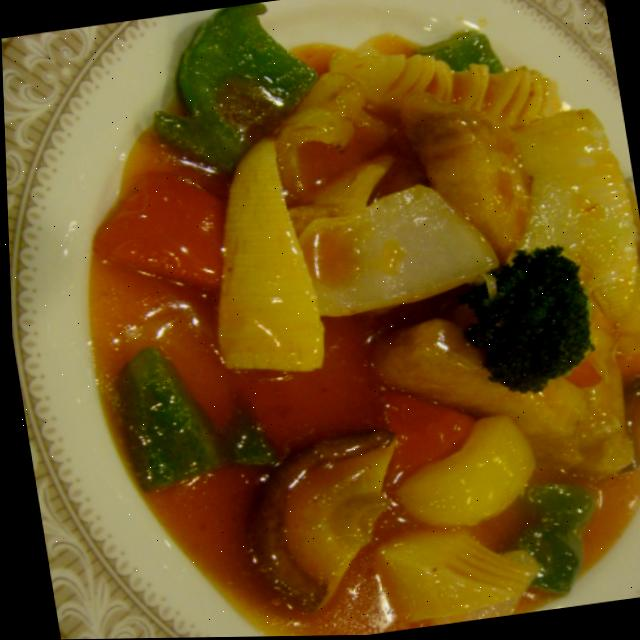猪肉菜式: (39, 0, 640, 640)
